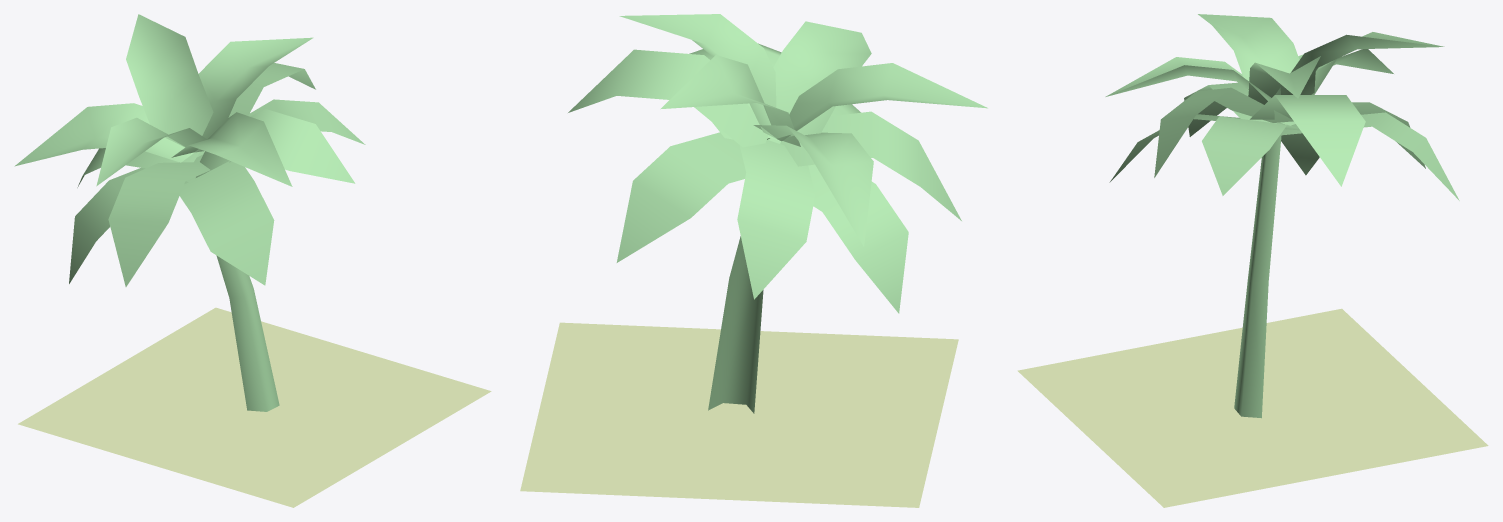
3 renders of one model, left to right at view 1: azimuth 30°, elevation 25°; view 2: azimuth 150°, elevation 25°; view 3: azimuth 270°, elevation 25°, orthographic. The views are drawn at different scales.
Parts seen in each view (by area): view 1: 2-7_skeleton; view 2: 2-7_skeleton; view 3: 2-7_skeleton.
Boxes of the visible parts, left/top/right/bottom form: 2-7_skeleton: left=14, top=14, right=491, bottom=507; 2-7_skeleton: left=520, top=14, right=987, bottom=507; 2-7_skeleton: left=1017, top=14, right=1488, bottom=507.
Size of the model in its own units: 396 by 335 by 396.
